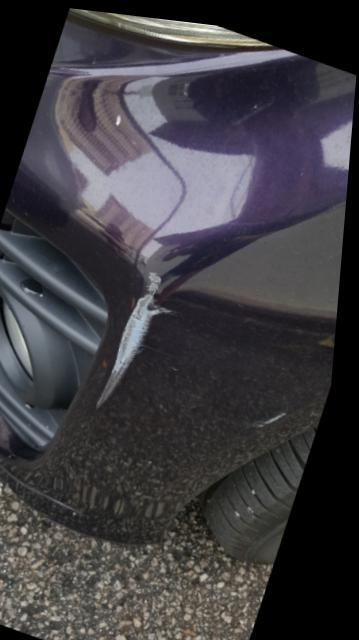scratch: (102, 265, 178, 402)
